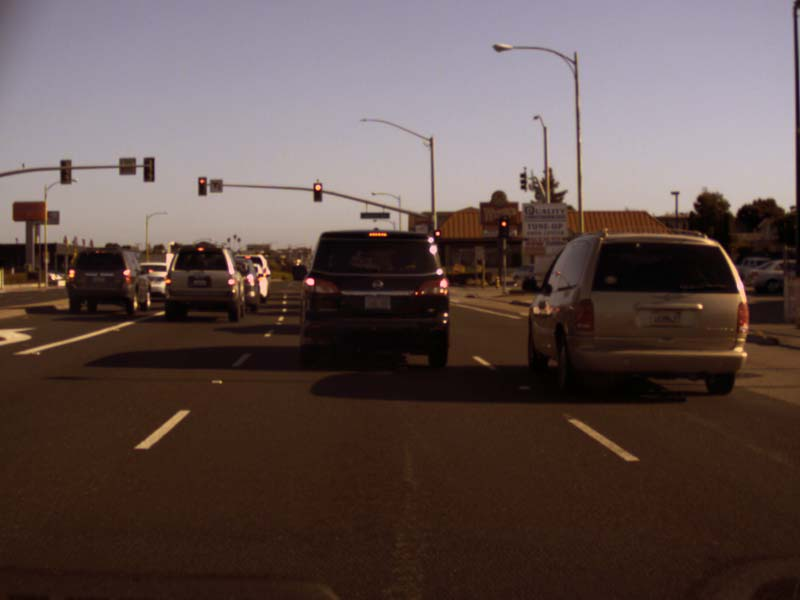Red: (197, 176, 207, 196), (312, 182, 321, 201), (433, 230, 440, 246)
Yellow: (499, 214, 508, 236)
